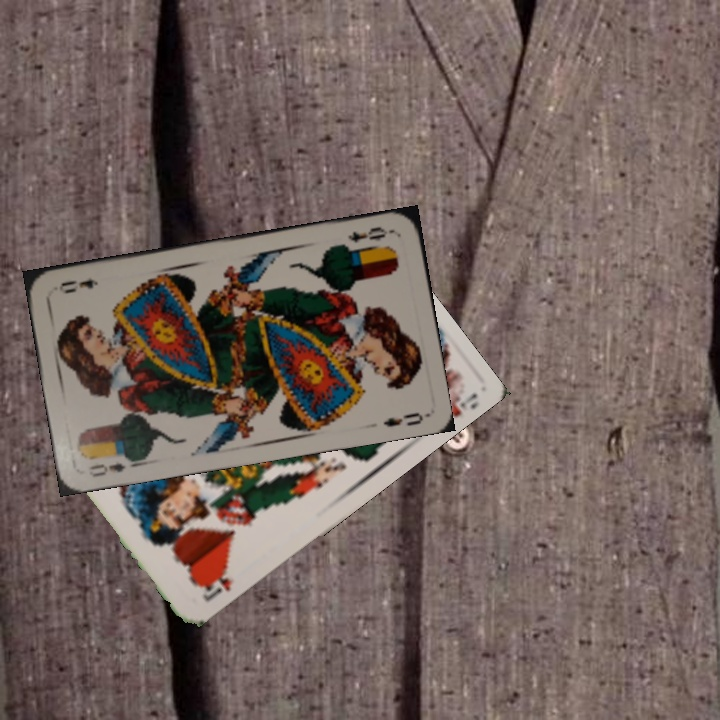EO: (85, 450, 140, 480), (344, 222, 395, 246)
HO: (198, 563, 237, 604)
